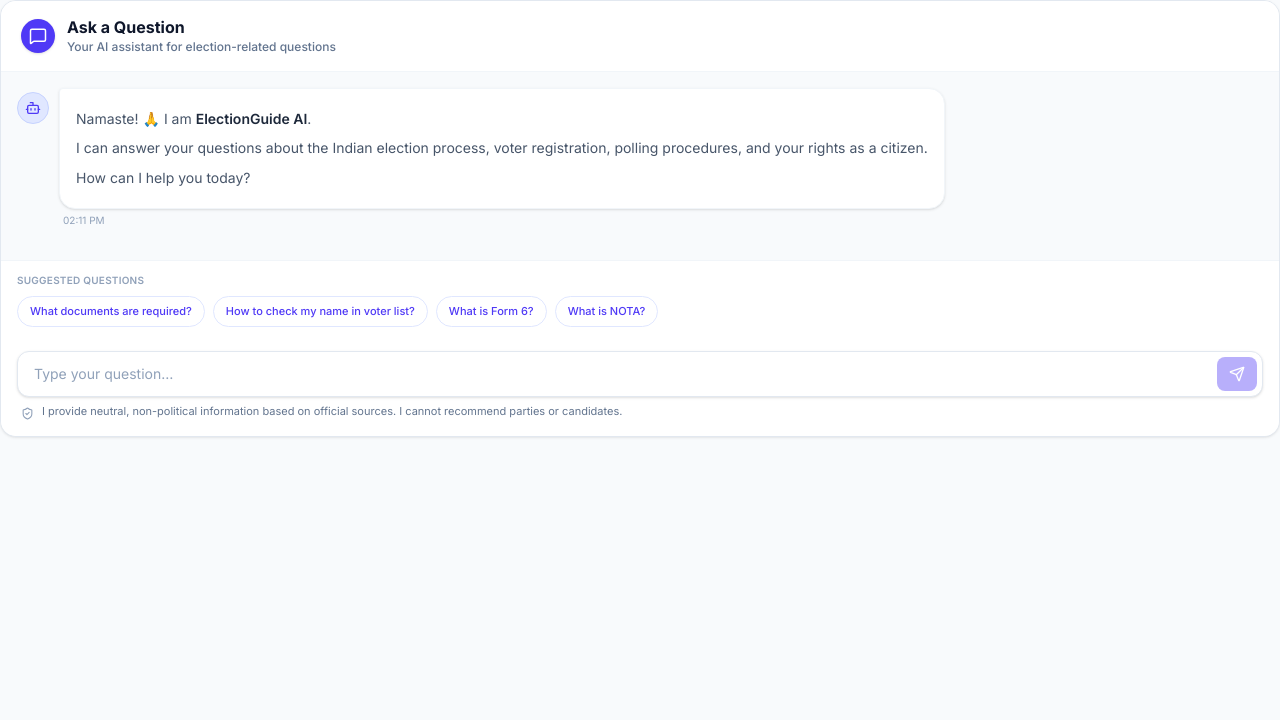
Test: AskAi Component › Political neutrality guardrail in chat › shows guardrail for BJP mention
In the field with test id "chat-input": (640, 374) [17,351,1263,397], type "Tell me about BJP"
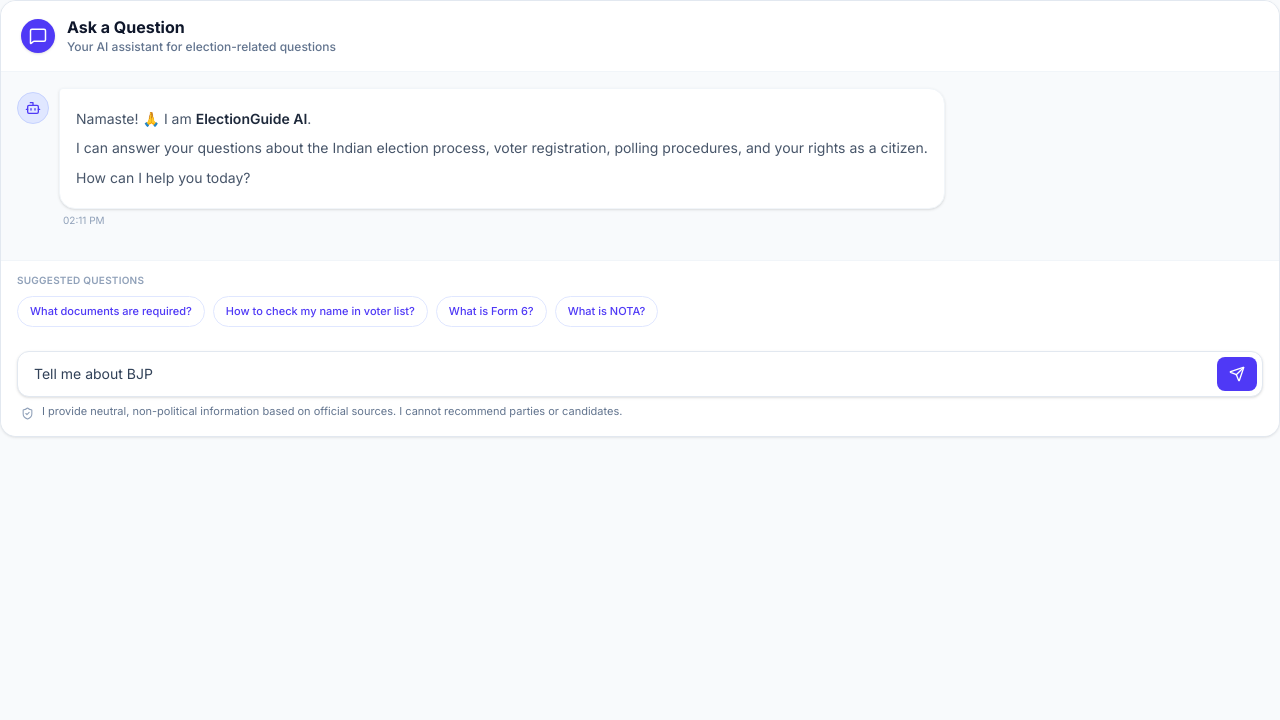
Submit the form with test id "chat-form", box [17,351,1263,397]
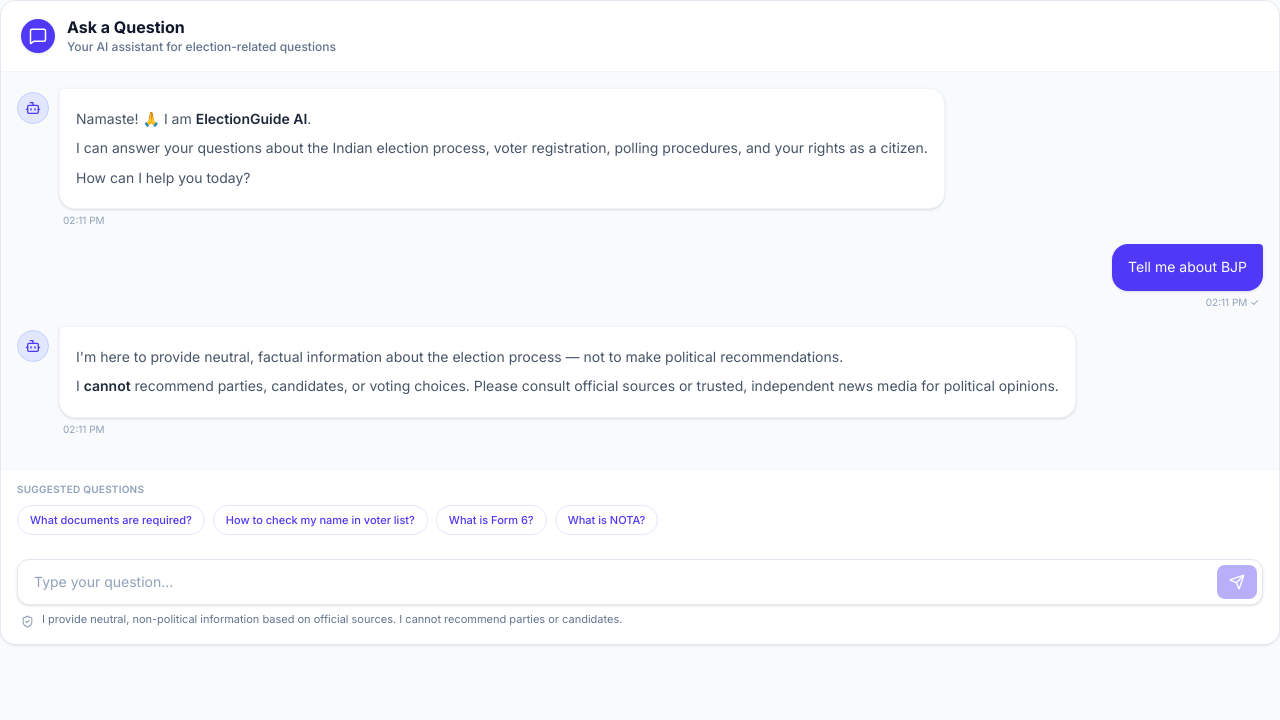
Check: the element with test id "bot-bubble" shows "neutral", box [76,348,843,365]
